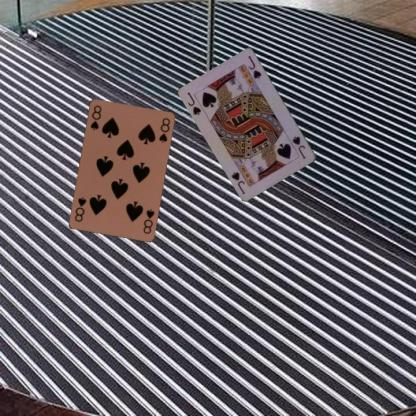8s: (140, 206, 156, 235), (88, 102, 103, 131)
Js: (185, 90, 203, 116), (290, 134, 307, 160)
